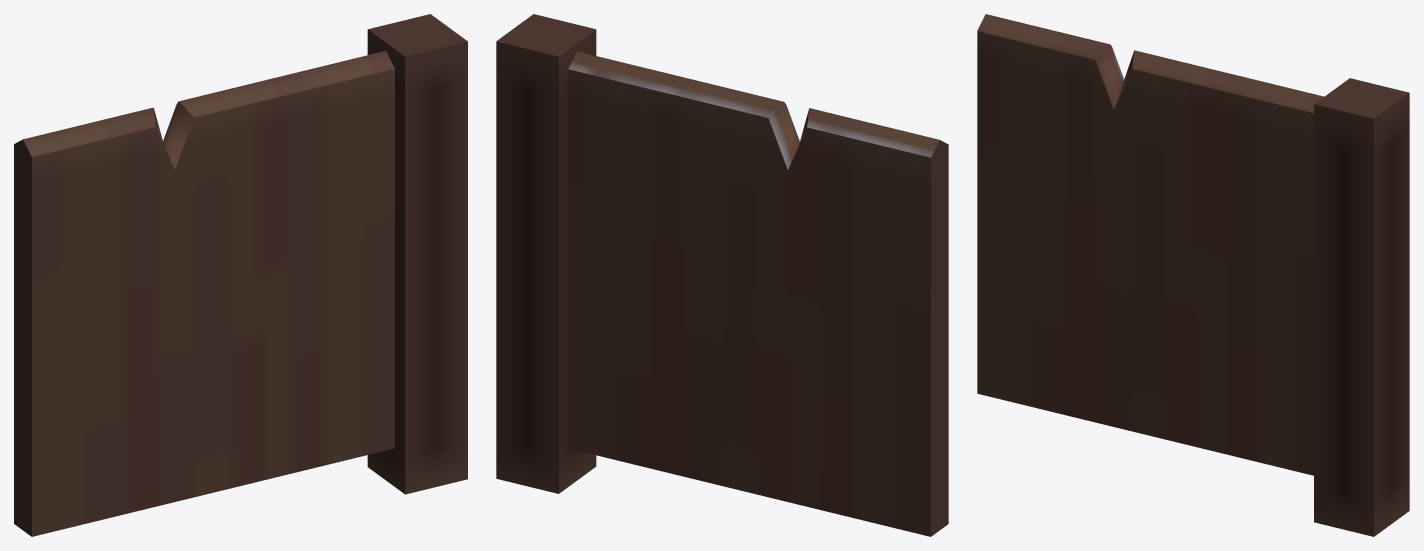
The model's file is fence_end_v2.fbx.
3 views of the same model, side by side, from view 1: azimuth 30°, elevation 25°; view 2: azimuth 150°, elevation 25°; view 3: azimuth 330°, elevation 25° (orthographic). The views are drawn at different scales.
Visible parts, largest first — view 1: fence_end_v2; view 2: fence_end_v2; view 3: fence_end_v2.
Boxes of the visible parts, x1=… form: fence_end_v2: x1=14, y1=14, x2=467, y2=536; fence_end_v2: x1=496, y1=14, x2=948, y2=536; fence_end_v2: x1=977, y1=14, x2=1409, y2=536.
Bounding box in the file's own units: 209 × 205 × 31.82.
